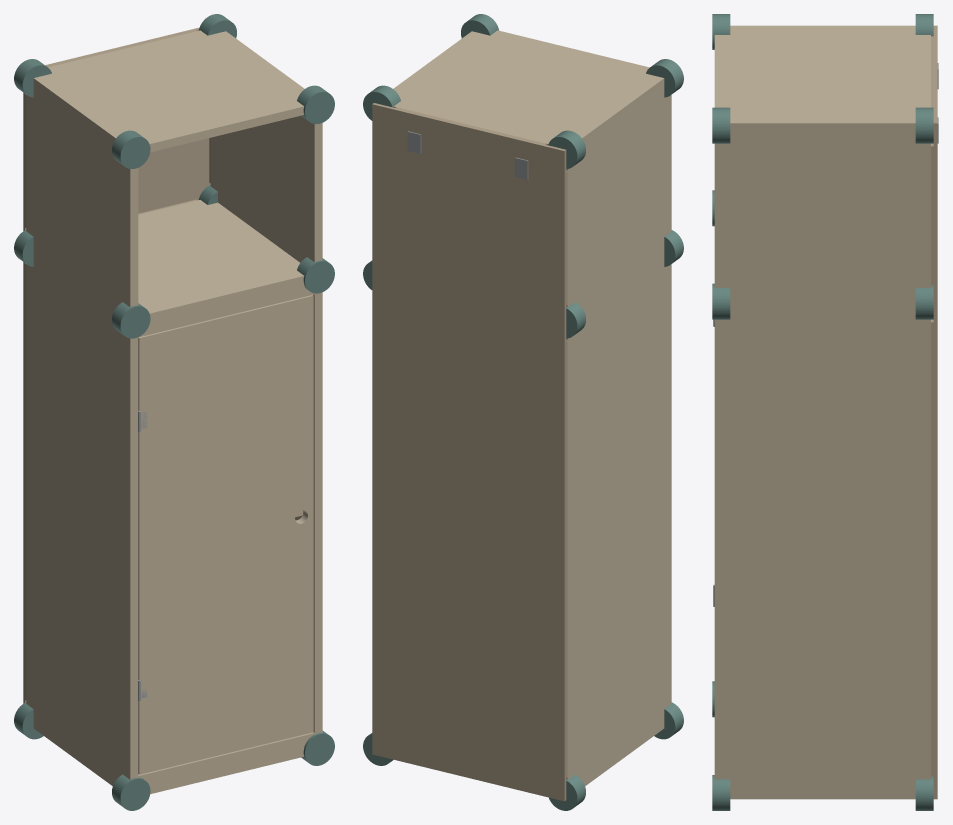
Rendered from cabinet-concept.glb.
The picture shows the model from 3 angles, left to right: view 1: azimuth 30°, elevation 25°; view 2: azimuth 150°, elevation 25°; view 3: azimuth 270°, elevation 25°; orthographic projection. The views are drawn at different scales.
Visible parts, largest first — view 1: 20-door, 00-side-left, 04-top, 01-side-right, 03-divider, 05-back-6mm, 13-front-fascia, 14-front-fascia, 02-base, 27-L-connector, 26-T-connector, 25-L-connector (+7 smaller); view 2: 05-back-6mm, 00-side-left, 04-top, 06-back-spacer, 33-L-connector, 27-L-connector, 31-L-connector, 36-L-connector, 01-side-right, 25-L-connector, 30-L-connector; view 3: 01-side-right, 04-top, 05-back-6mm, 08-back-spacer, 00-side-left, 30-L-connector, 36-L-connector, 29-T-connector, 28-L-connector, 34-L-connector, 35-T-connector, 27-L-connector (+1 smaller).
Part boxes in pixels (<box>): 20-door: <box>138,295,313,774</box>; 00-side-left: <box>26,76,138,785</box>; 04-top: <box>42,30,304,152</box>; 01-side-right: <box>210,31,322,734</box>; 03-divider: <box>138,200,303,321</box>; 05-back-6mm: <box>23,27,210,703</box>; 13-front-fascia: <box>138,732,314,785</box>; 14-front-fascia: <box>138,284,314,337</box>; 02-base: <box>149,748,304,793</box>; 27-L-connector: <box>112,130,150,168</box>; 26-T-connector: <box>112,302,150,338</box>; 25-L-connector: <box>112,774,150,810</box>; 05-back-6mm: <box>372,103,566,801</box>; 00-side-left: <box>566,76,671,785</box>; 04-top: <box>393,30,655,145</box>; 06-back-spacer: <box>566,340,567,777</box>; 33-L-connector: <box>548,130,585,168</box>; 27-L-connector: <box>646,59,683,97</box>; 31-L-connector: <box>549,774,585,810</box>; 36-L-connector: <box>363,85,400,120</box>; 01-side-right: <box>393,31,479,93</box>; 25-L-connector: <box>654,702,683,739</box>; 30-L-connector: <box>461,14,498,38</box>; 01-side-right: <box>714,119,930,799</box>; 04-top: <box>714,29,930,119</box>; 05-back-6mm: <box>933,25,937,799</box>; 08-back-spacer: <box>931,319,933,776</box>; 00-side-left: <box>730,25,915,29</box>; 30-L-connector: <box>712,107,730,143</box>; 36-L-connector: <box>915,107,933,143</box>; 29-T-connector: <box>712,283,730,319</box>; 28-L-connector: <box>712,775,730,810</box>; 34-L-connector: <box>915,776,933,810</box>; 35-T-connector: <box>915,285,933,319</box>; 27-L-connector: <box>712,14,730,49</box>.
Size of the model in its own units: 0.4 by 1.2 by 0.352.
